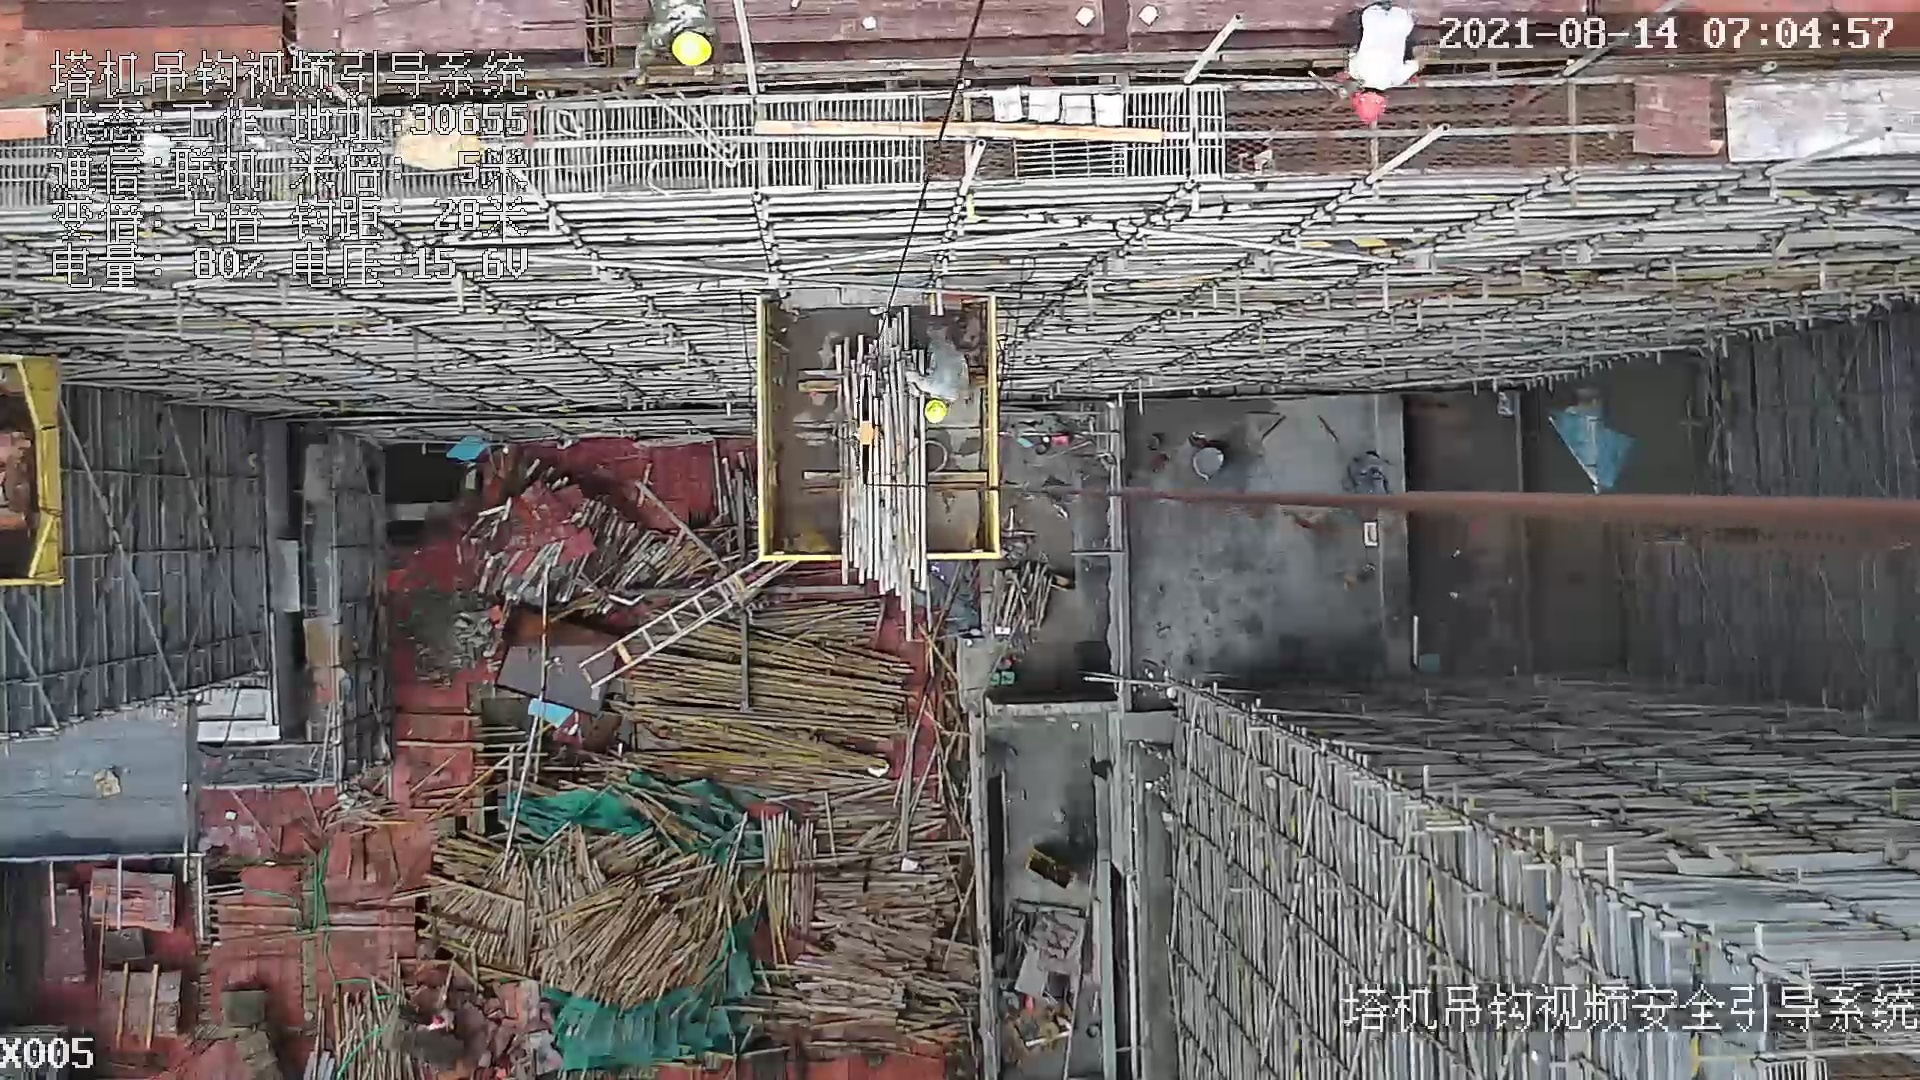helmet: (670, 26, 717, 70), (1350, 86, 1392, 130), (921, 397, 951, 425)
hook: (842, 374, 882, 499)
person: (628, 1, 737, 106), (1333, 1, 1422, 129), (908, 308, 983, 436)
